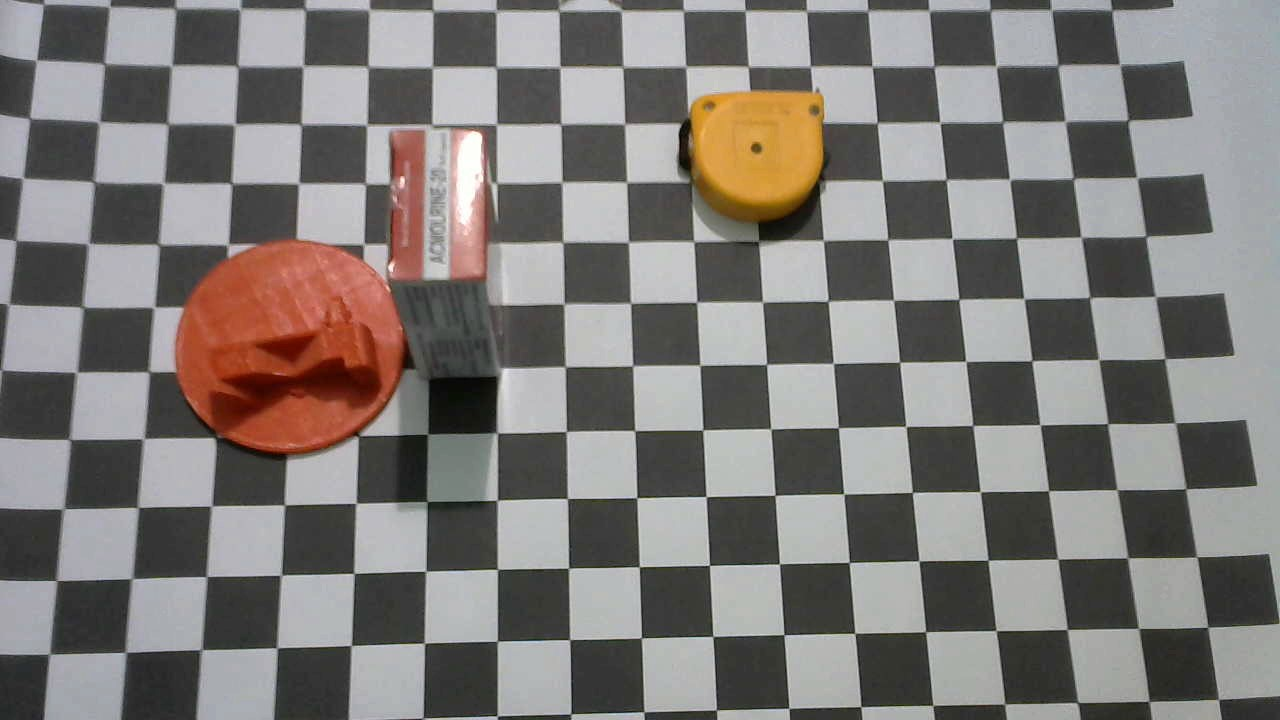blue: (681, 89, 827, 221)
green: (176, 239, 402, 459)
red: (390, 128, 505, 382)
